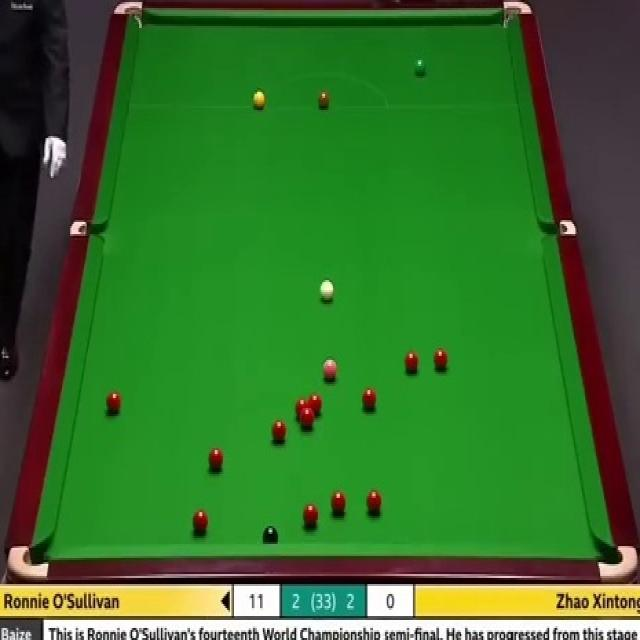black-ball: (262, 525, 280, 546)
brown-ball: (318, 88, 330, 108)
green-ball: (412, 56, 426, 78)
pink-ball: (322, 359, 339, 384)
red-ball: (358, 385, 376, 411), (105, 389, 122, 416), (191, 508, 208, 535), (434, 347, 450, 374), (330, 490, 348, 514), (404, 349, 420, 375), (302, 502, 318, 528), (366, 490, 382, 516), (272, 420, 287, 444), (208, 449, 225, 469), (294, 398, 308, 422), (309, 393, 322, 418), (300, 411, 316, 430)
white-ball: (319, 279, 333, 301)
yellow-ball: (252, 91, 266, 109)
